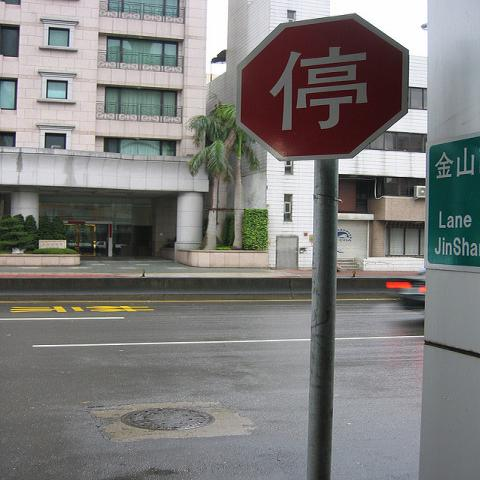car: (386, 270, 427, 311)
